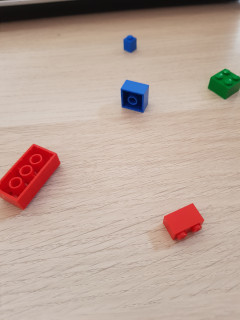1x1 blue: (122, 33, 138, 56)
1x2 red: (162, 204, 204, 239)
2x2 blue: (121, 78, 150, 112)
